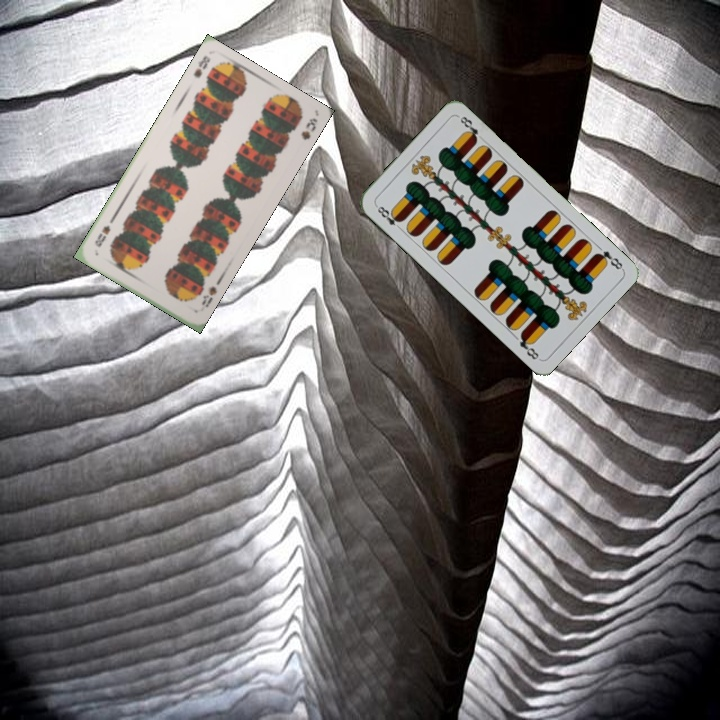E8: (372, 201, 405, 233), (591, 246, 626, 272)
S8: (189, 51, 213, 81), (197, 282, 219, 310)
